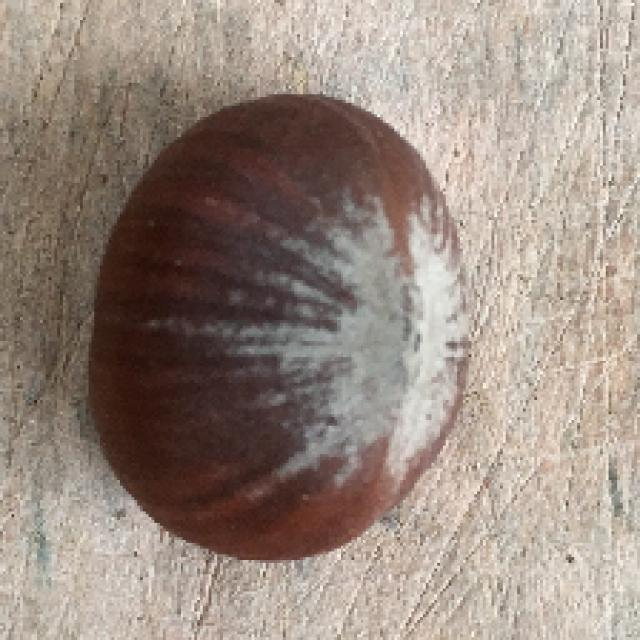qualityHazelnut: (86, 85, 476, 573)
